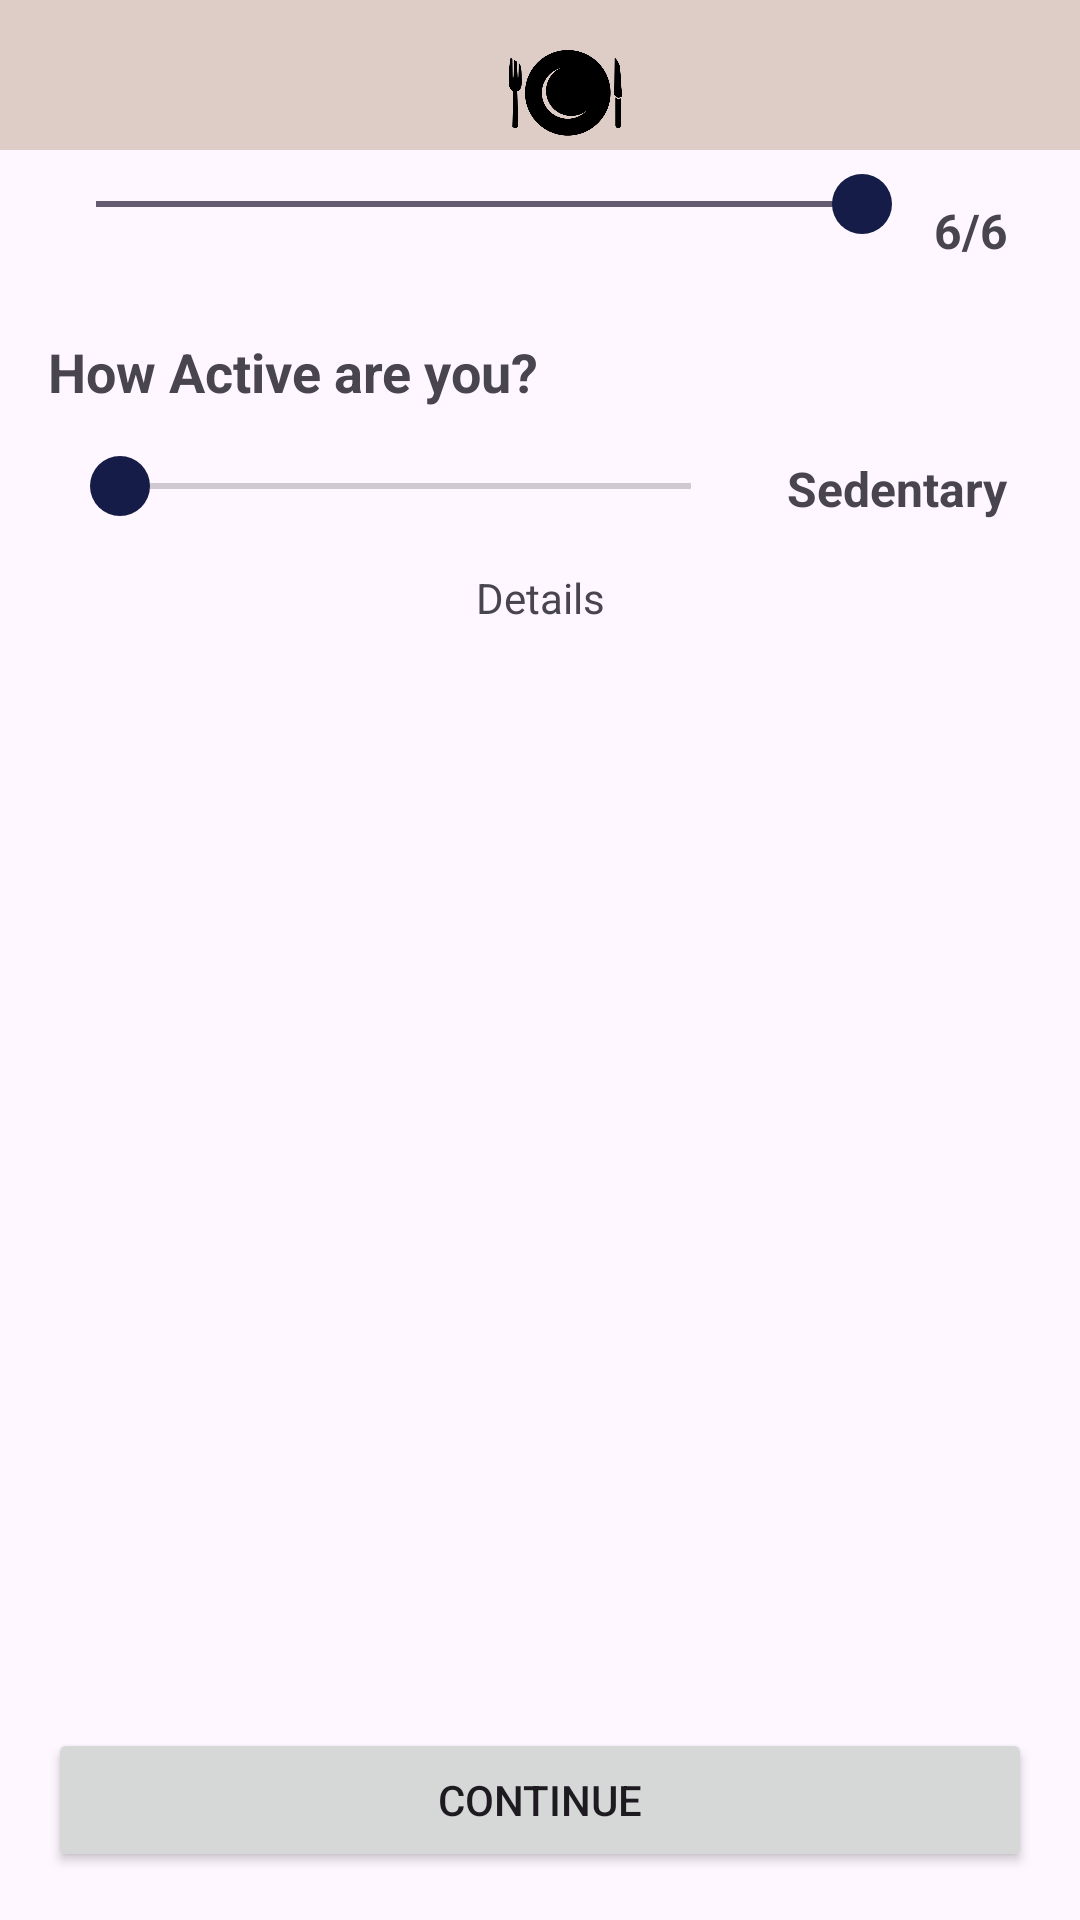

Icons on this 1080px×1920px Android screen, each with the point to tap as (x,y):
noun meal: (565,93)
